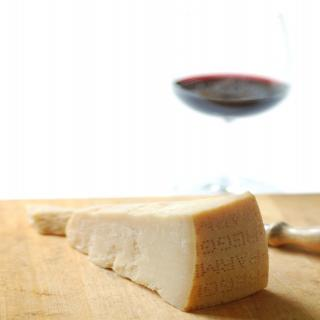Cheese: (26, 188, 270, 312)
